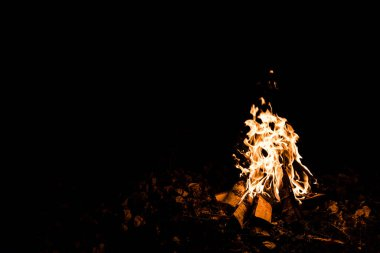fire: (239, 102, 310, 205)
